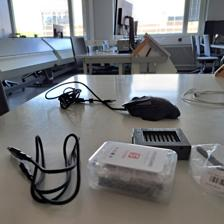mouse: (120, 94, 180, 122)
